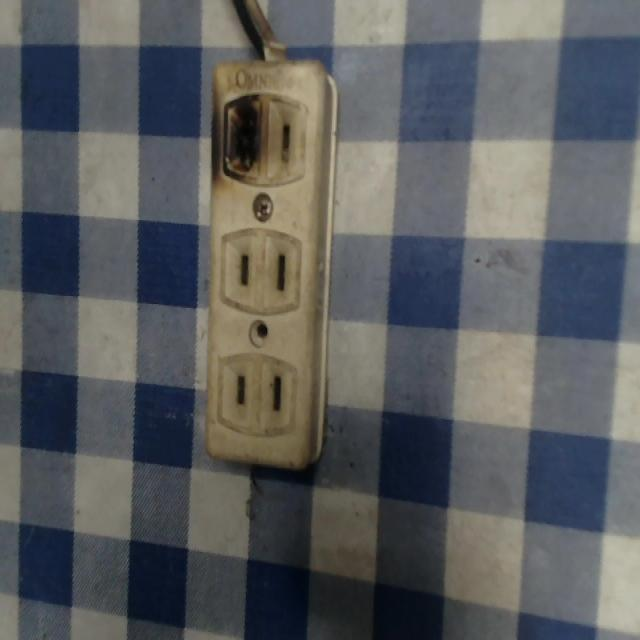-: (202, 71, 276, 196)
